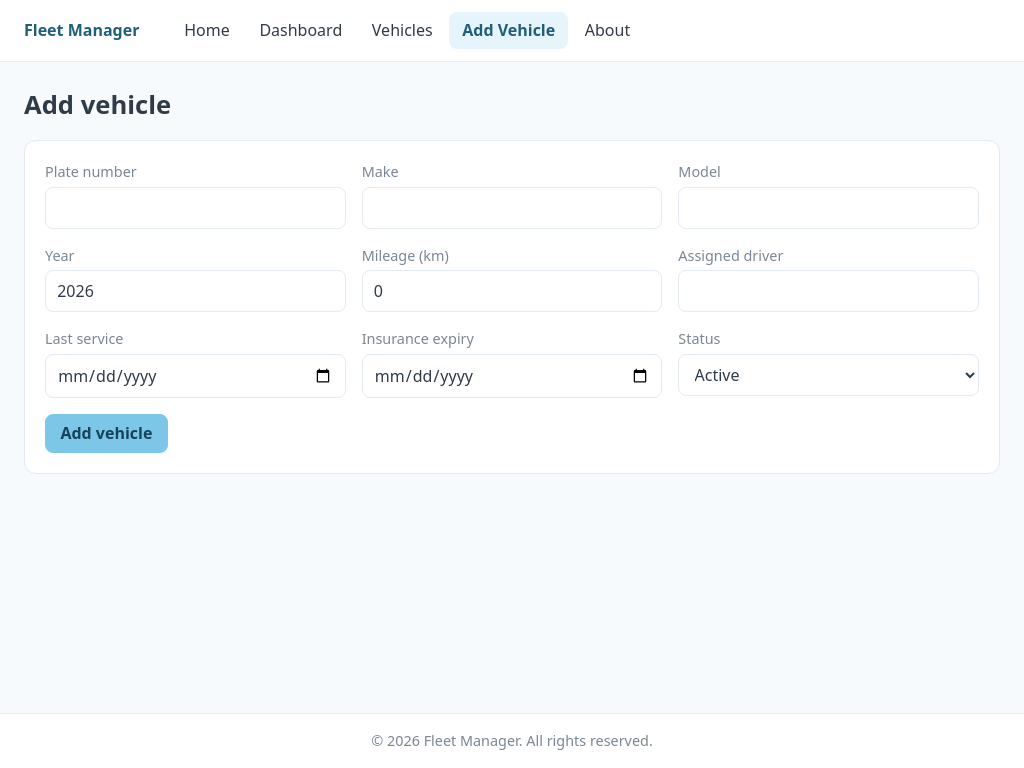
Test: add and edit › adds a new vehicle
Type "new-9" into the field labelled "Plate number" at point(195, 208), box [45,187,346,229]
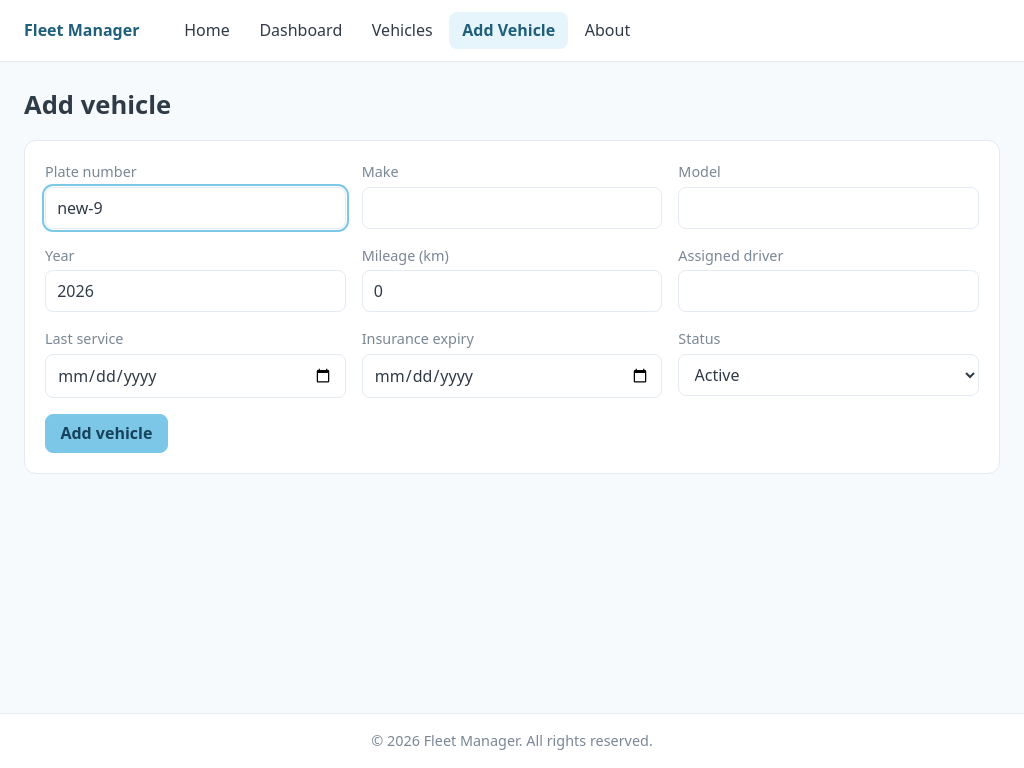
Type "Kia" into the field labelled "Make" at point(512, 208), box [362,187,662,229]
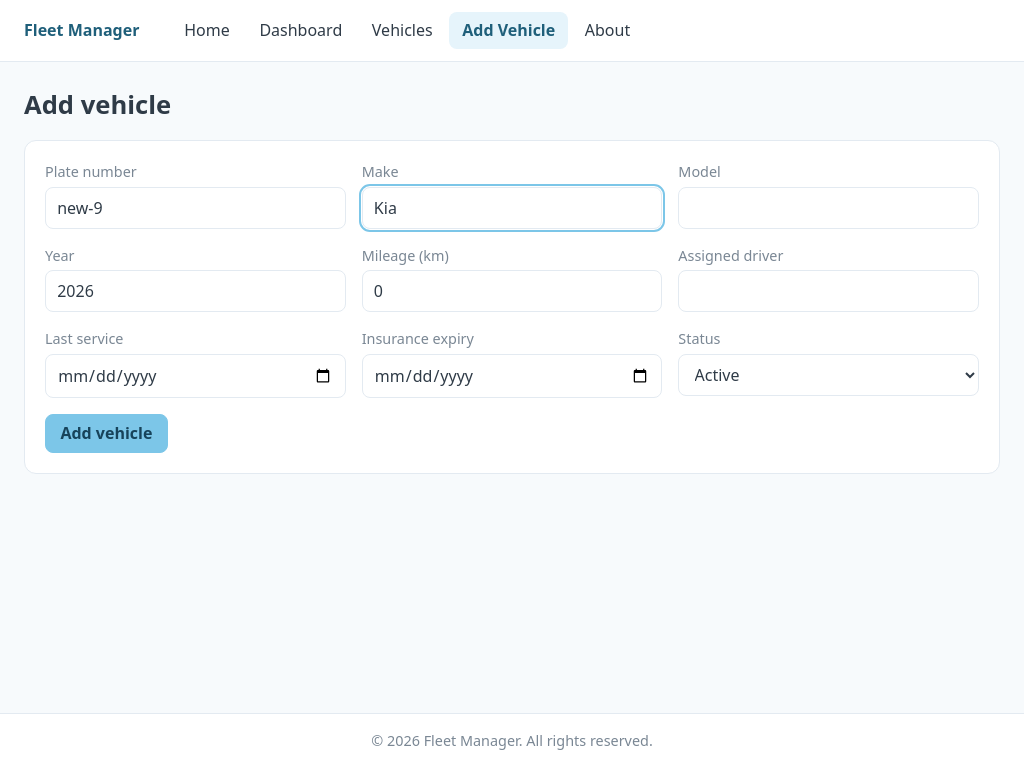
Type "Sportage" into the field labelled "Model" at point(829, 208), box [678,187,979,229]
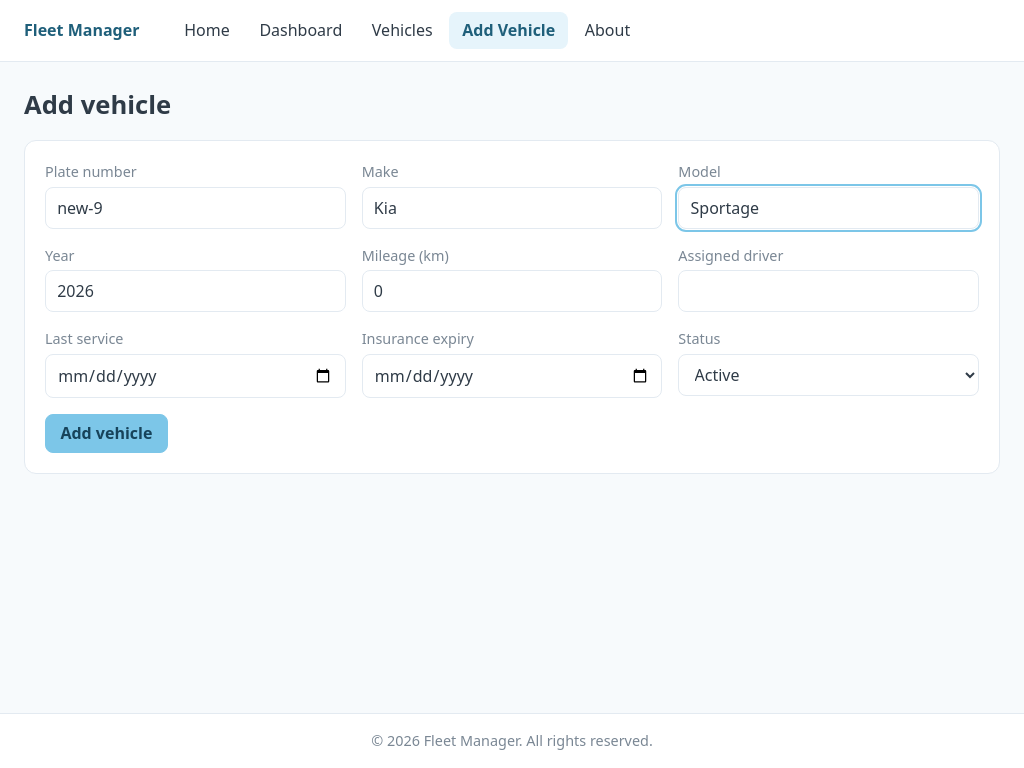
Click the button "Add vehicle" at point(106, 433), box [45,414,168,453]
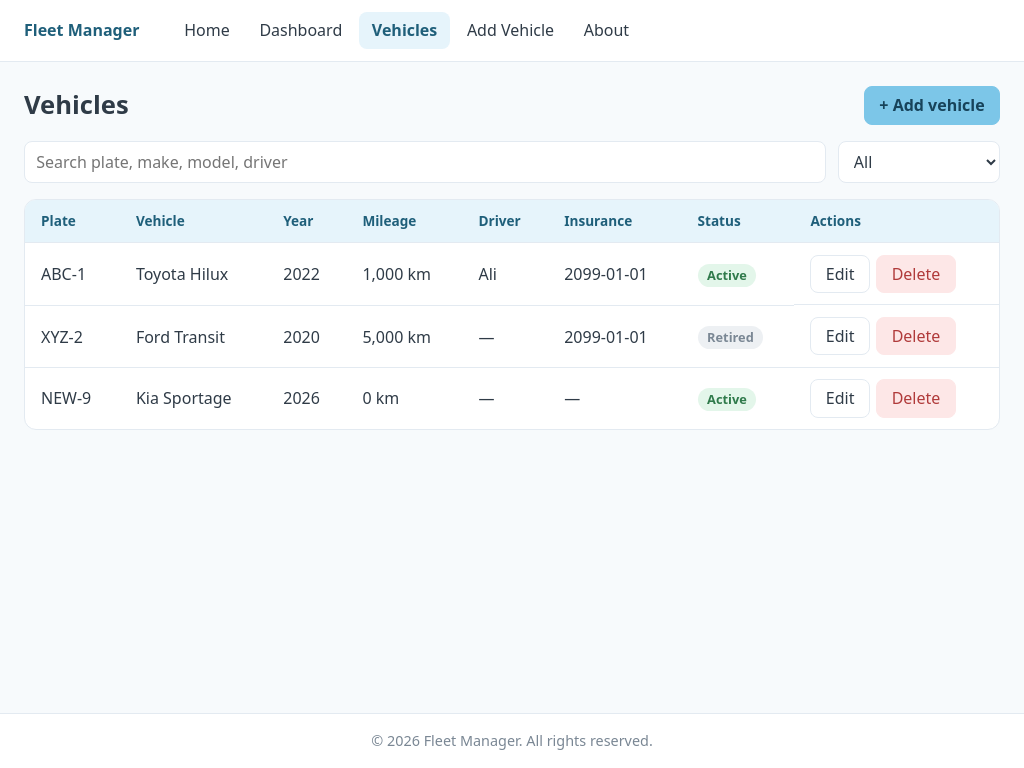
Expected: the text "NEW-9" is shown, [25,368,120,429]
Expected: the text "Kia Sportage" is shown, [120,368,267,429]
